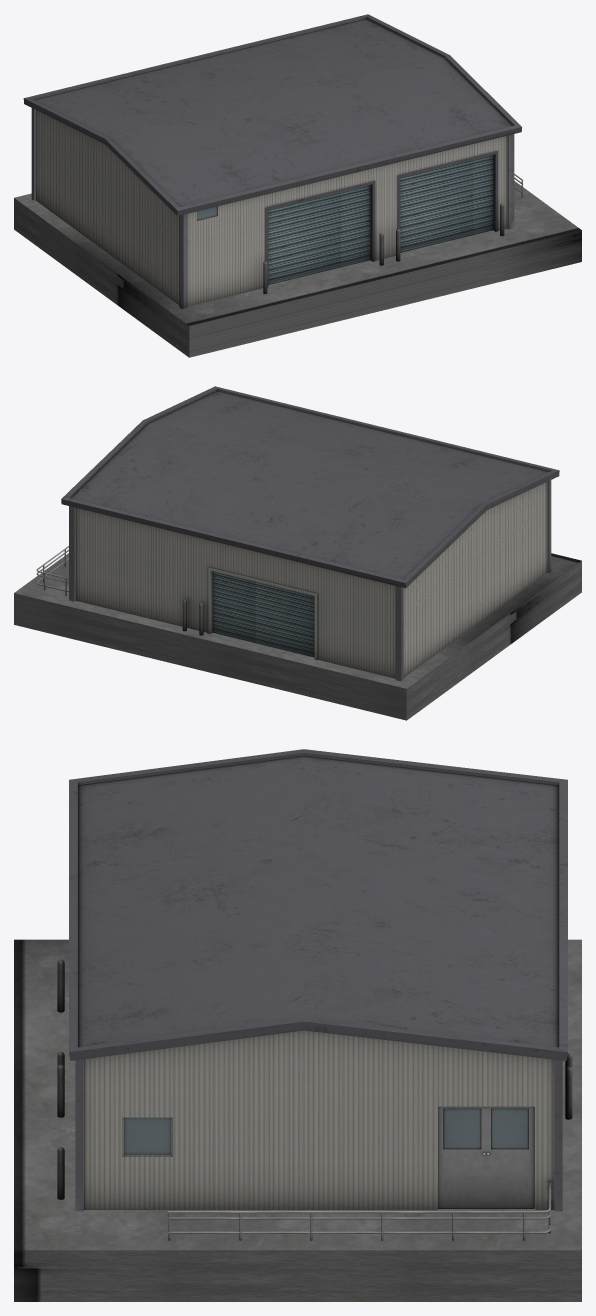
The model's file is MiscSmallWarehouse.glb.
The picture shows the model from 3 angles, top to bottom: view 1: azimuth 30°, elevation 25°; view 2: azimuth 150°, elevation 25°; view 3: azimuth 270°, elevation 25°; orthographic projection. The views are drawn at different scales.
Visible parts, largest first — view 1: polySurface2, polySurface1, Cube, pCube9, pCylinder18; view 2: polySurface2, polySurface1, Cube, pCube9, pCylinder19; view 3: polySurface2, Cube, polySurface1, polySurface5, pCylinder19, pCube9, pCylinder18.
Part boxes in pixels (x1,y1,x2,y2): polySurface2: (23,14,521,215); polySurface1: (36,110,507,306); Cube: (14,181,581,357); pCube9: (31,108,514,308); pCylinder18: (263,203,504,293); polySurface2: (61,386,559,588); polySurface1: (75,482,547,678); Cube: (14,553,581,720); pCube9: (69,480,551,681); pCylinder19: (36,546,68,595); polySurface2: (69,749,567,1060); Cube: (14,939,581,1301); polySurface1: (83,1030,554,1209); polySurface5: (438,1106,534,1208); pCylinder19: (168,1180,550,1240); pCube9: (75,1059,562,1211); pCylinder18: (57,959,572,1199).
Size of the model in its own units: 0.2257 by 0.0834 by 0.1744.
8 materials, 7 textured.
